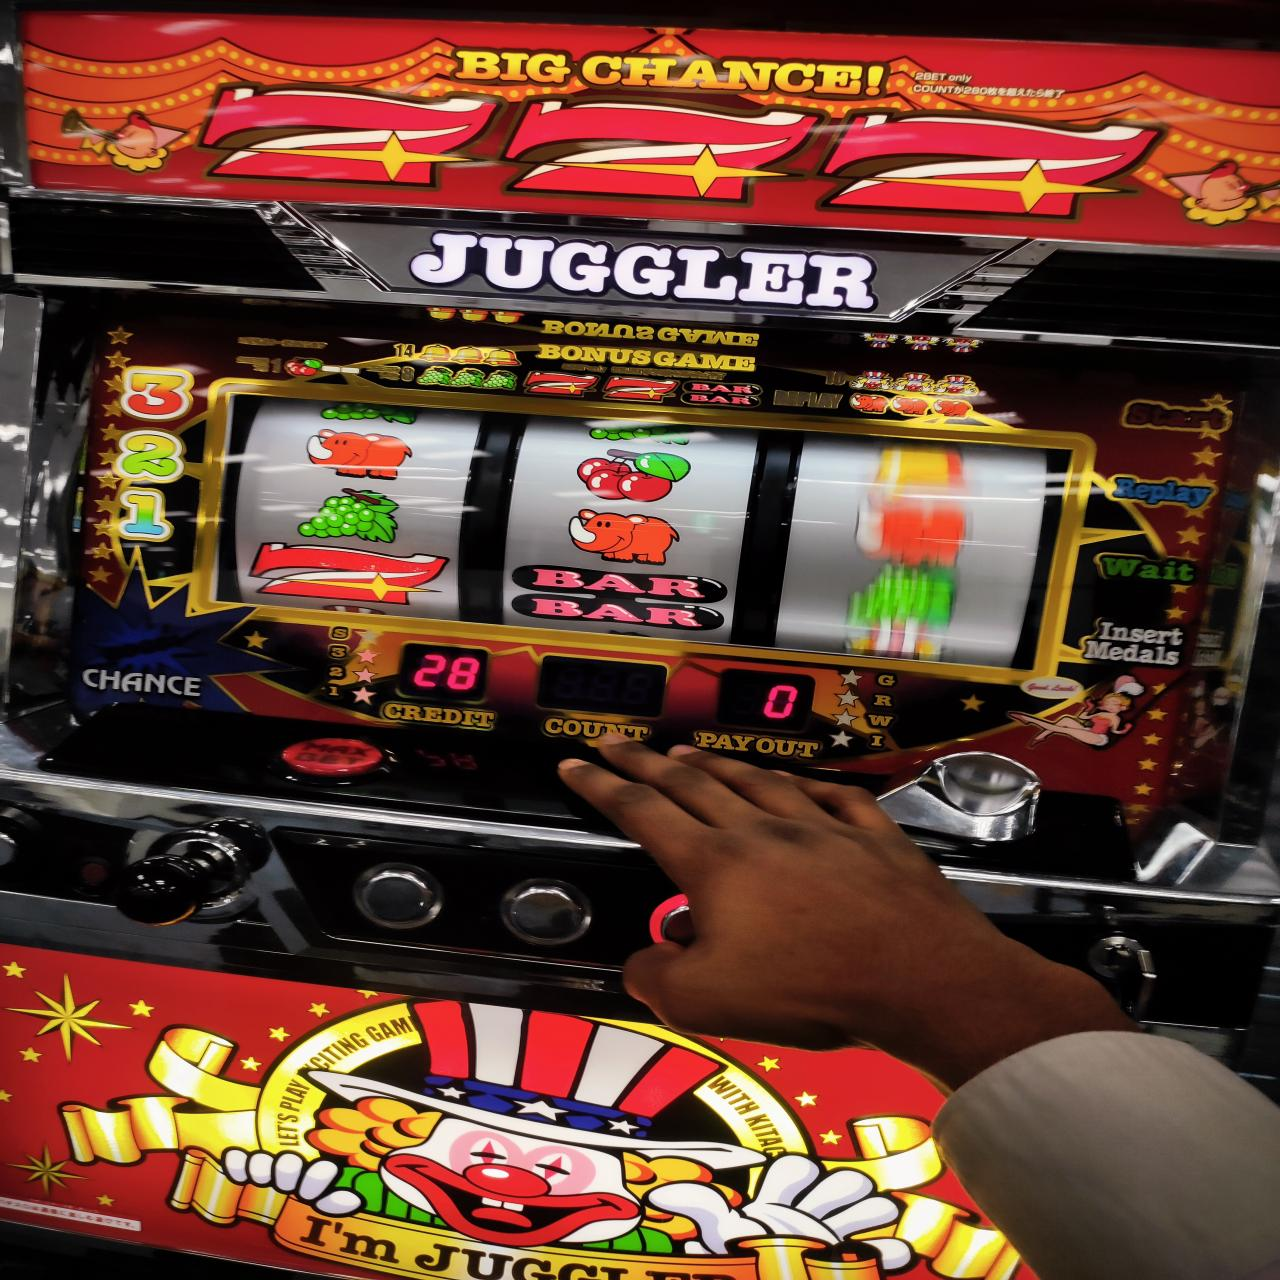7: (248, 538, 456, 613)
8: (561, 512, 685, 564), (305, 429, 414, 481)
bar: (505, 565, 729, 629)
cherry: (573, 444, 690, 503)
grape: (287, 485, 404, 540)
rhino: (219, 392, 1042, 679)
